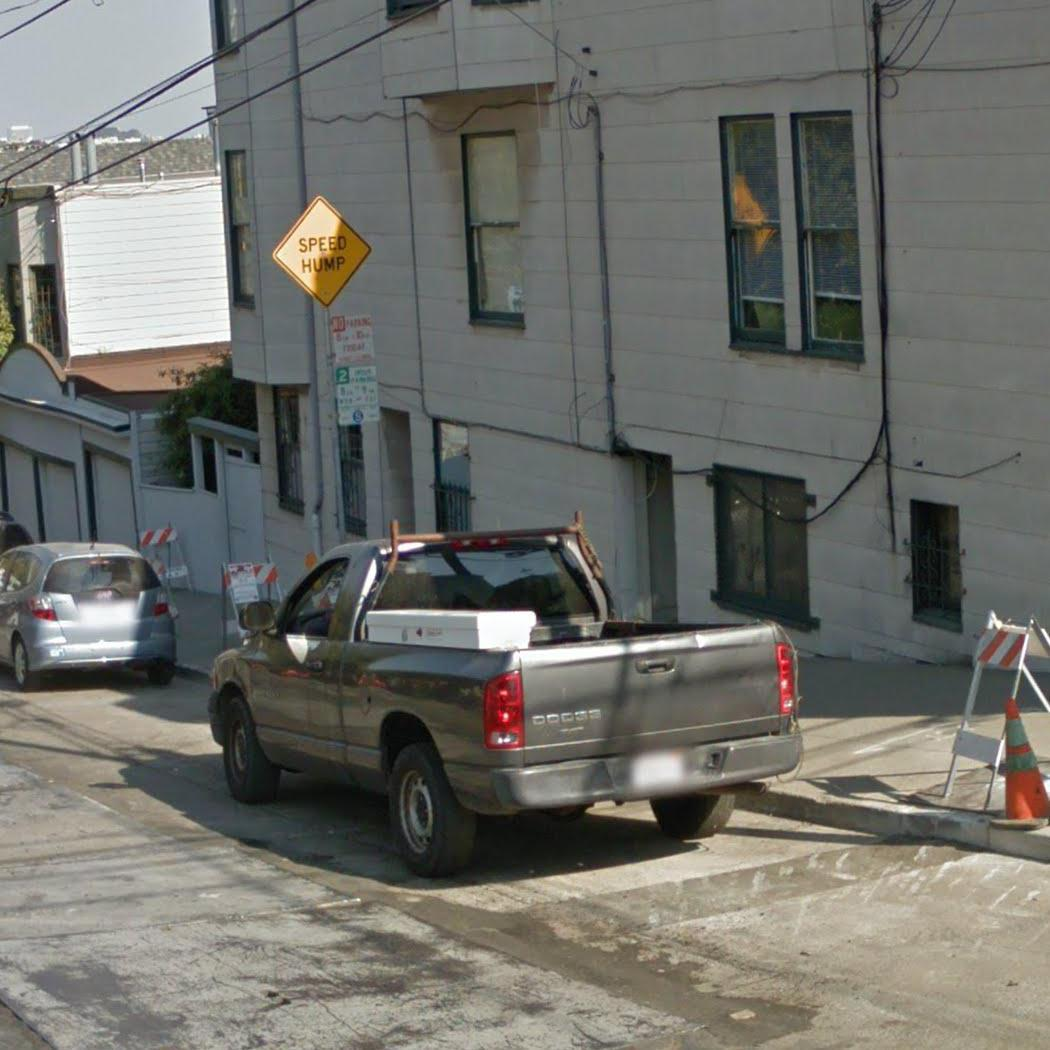2 Hour Parking: (335, 366, 382, 425)
No Parking: (327, 316, 376, 367)
